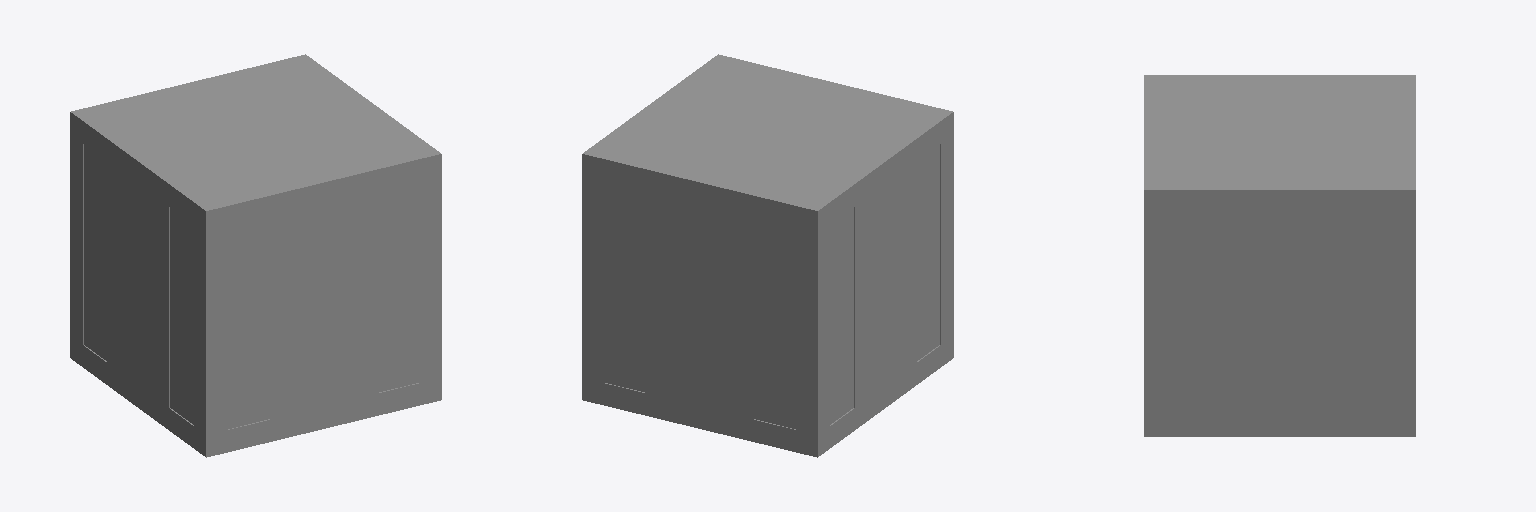
Rendered from solarGenerator.obj.
The picture shows the model from 3 angles: view 1: azimuth 30°, elevation 25°; view 2: azimuth 150°, elevation 25°; view 3: azimuth 270°, elevation 25°; orthographic projection.
Visible parts, largest first — view 1: Cube.000_Cube.006; view 2: Cube.000_Cube.006; view 3: Cube.000_Cube.006.
Part boxes in pixels (x1,y1,x2,y2): Cube.000_Cube.006: (70, 54, 441, 457); Cube.000_Cube.006: (582, 54, 953, 457); Cube.000_Cube.006: (1144, 75, 1415, 436).
Size of the model in its own units: 1 by 1 by 1.